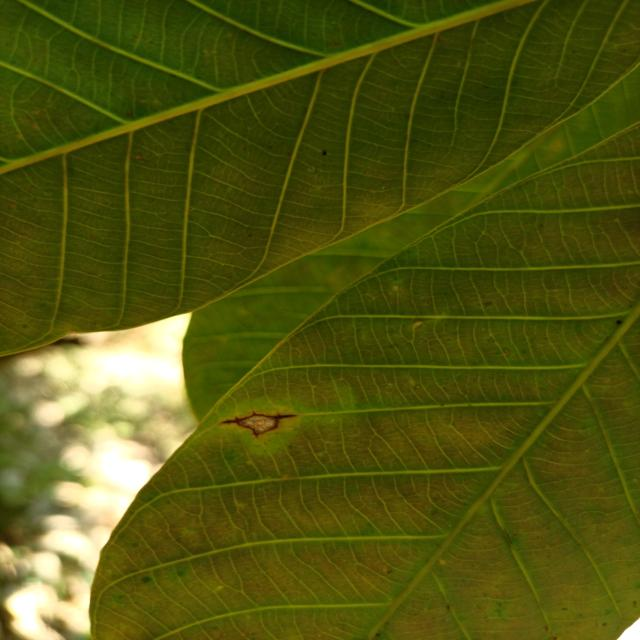Corynespora: (218, 411, 298, 437)
